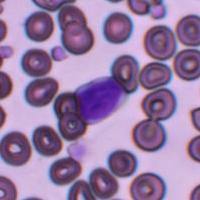L: (75, 76, 128, 125)
